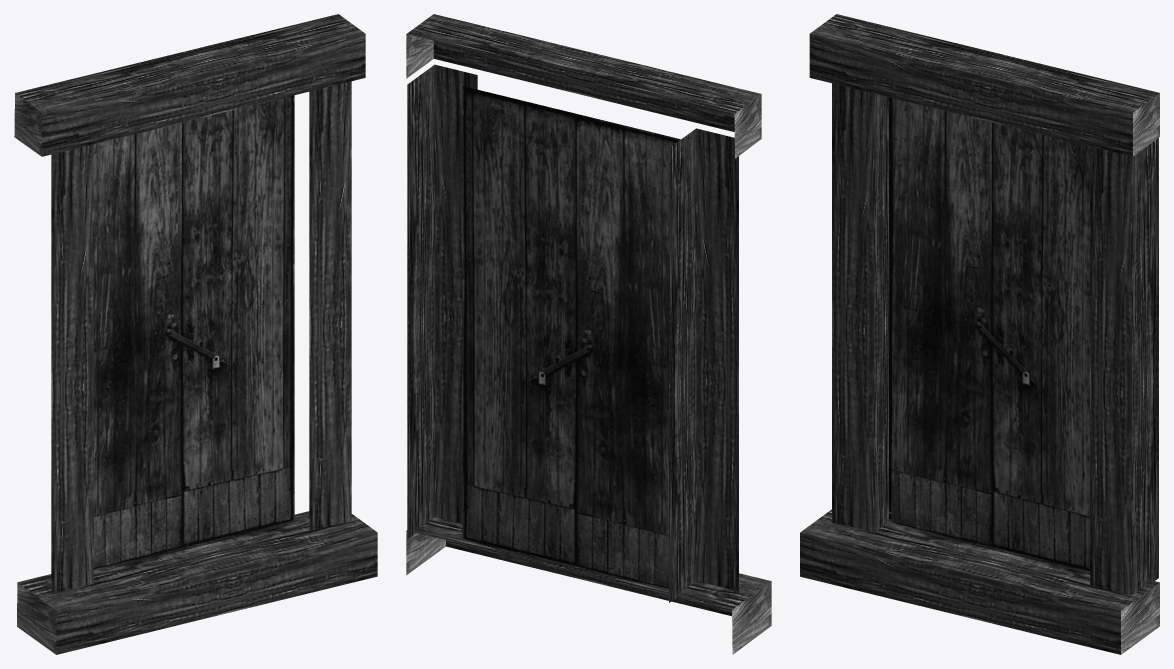
Rendered from StreetDeko_Door_A.FBX.
3 views of the same model, side by side, from view 1: azimuth 30°, elevation 25°; view 2: azimuth 150°, elevation 25°; view 3: azimuth 330°, elevation 25° (orthographic).
Parts seen in each view (by area): view 1: Door_A; view 2: Door_A; view 3: Door_A.
Part boxes in pixels (x1=…): Door_A: x1=14, y1=14, x2=377, y2=654; Door_A: x1=406, y1=14, x2=771, y2=654; Door_A: x1=800, y1=14, x2=1159, y2=654.
Bounding box in the file's own units: 177 × 278 × 42.86.
